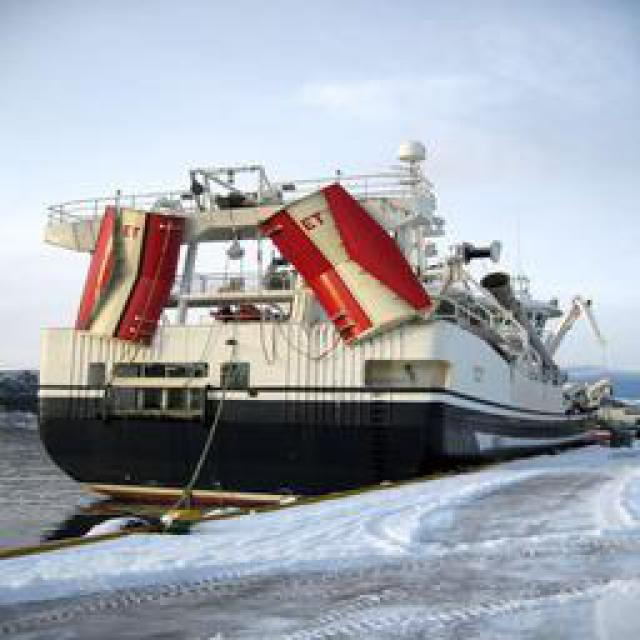Ship: (32, 145, 622, 523)
